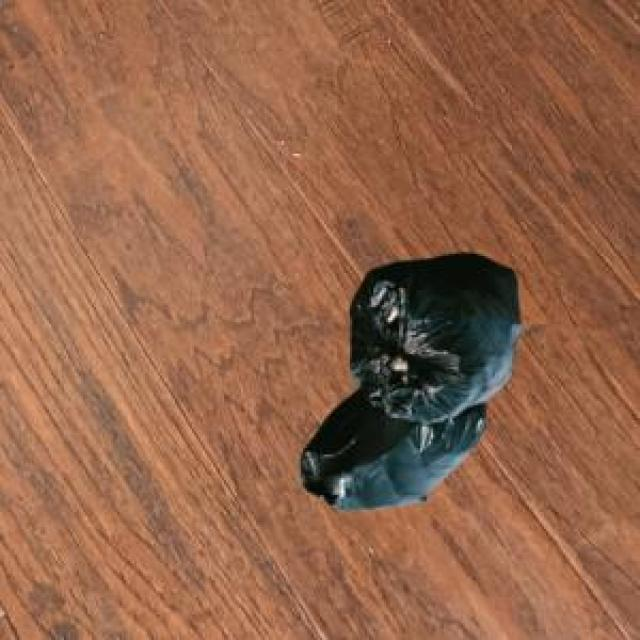garbage_bag: (294, 245, 524, 514)
